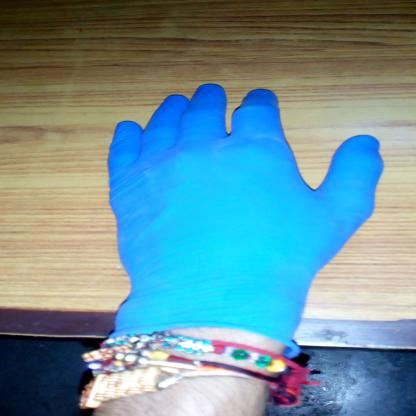gloved_hand: (93, 77, 385, 345)
